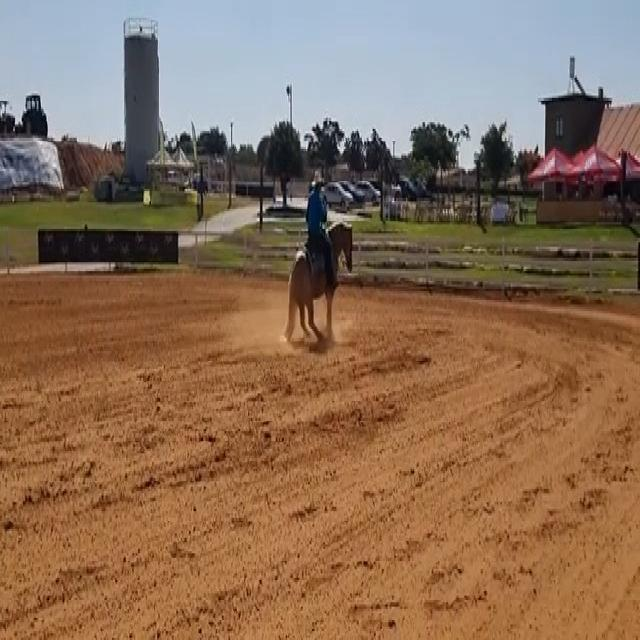horse: (280, 218, 354, 346)
